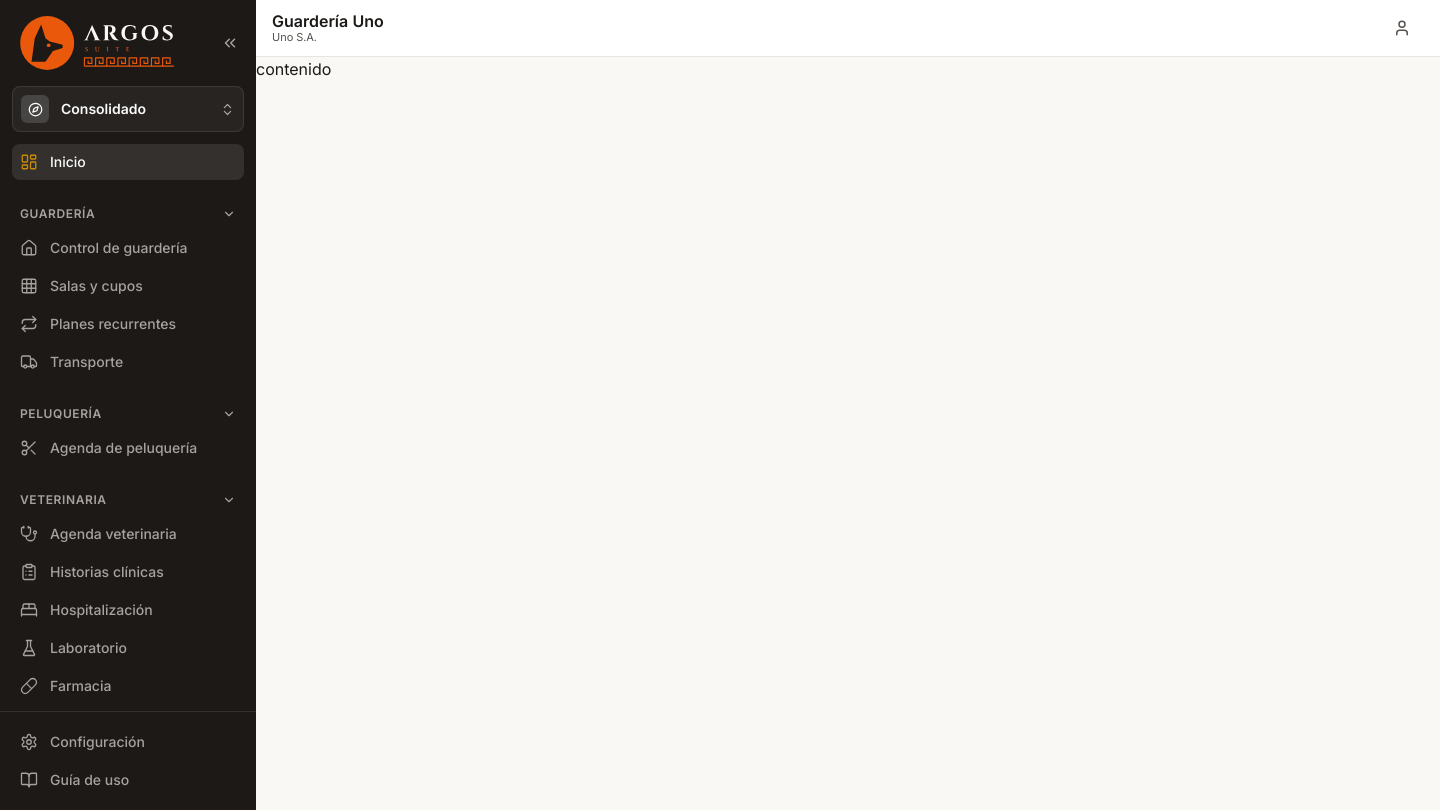
it: unit switcher › is offered to a role that spans both units
The width and height of the screenshot is (1440, 810).
Click the button with aria-label "Unidad de negocio" at coordinates (128, 109), box top-left (12, 86), bottom-right (244, 132)
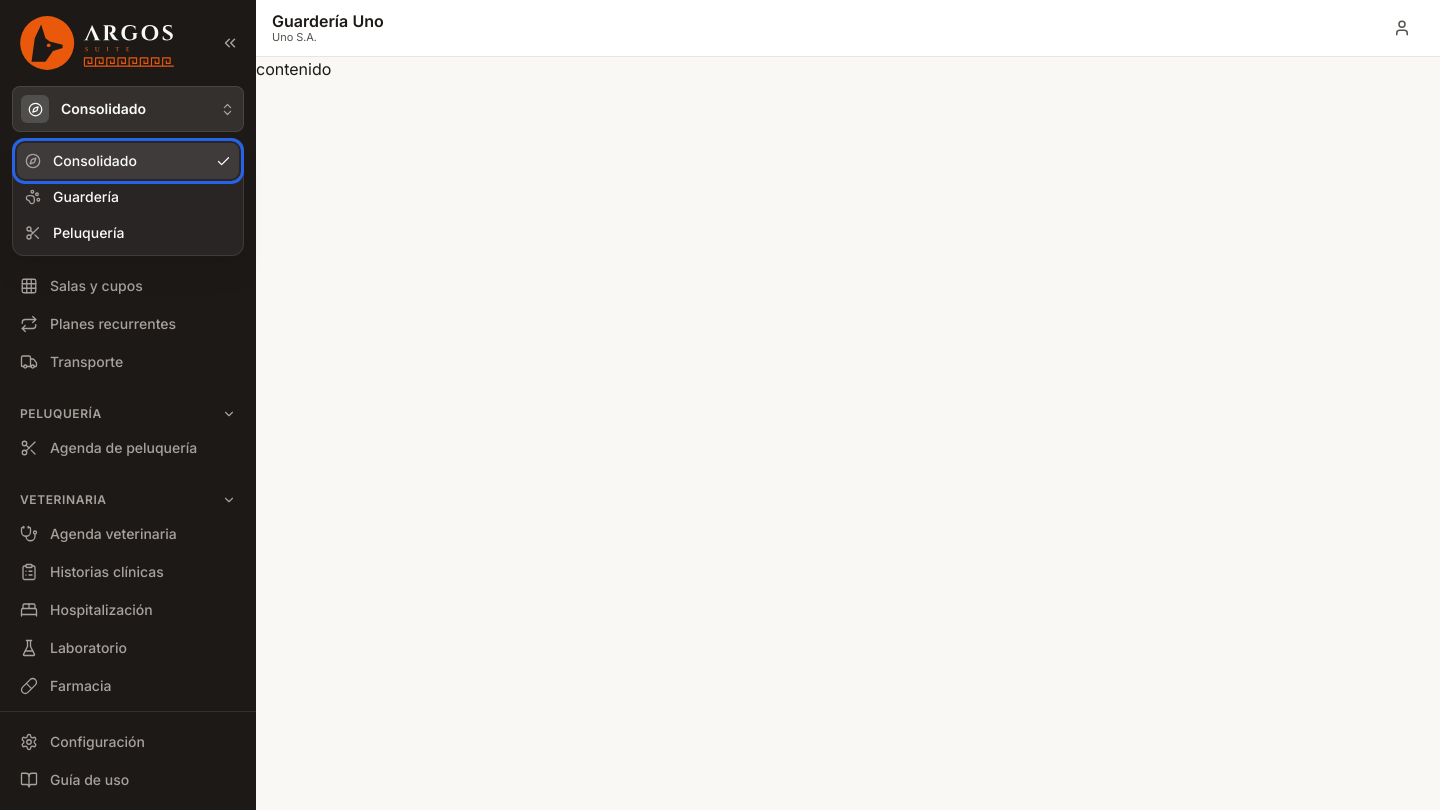
Result: the menu item "Guardería" is shown at top-left (17, 179), bottom-right (239, 215)
